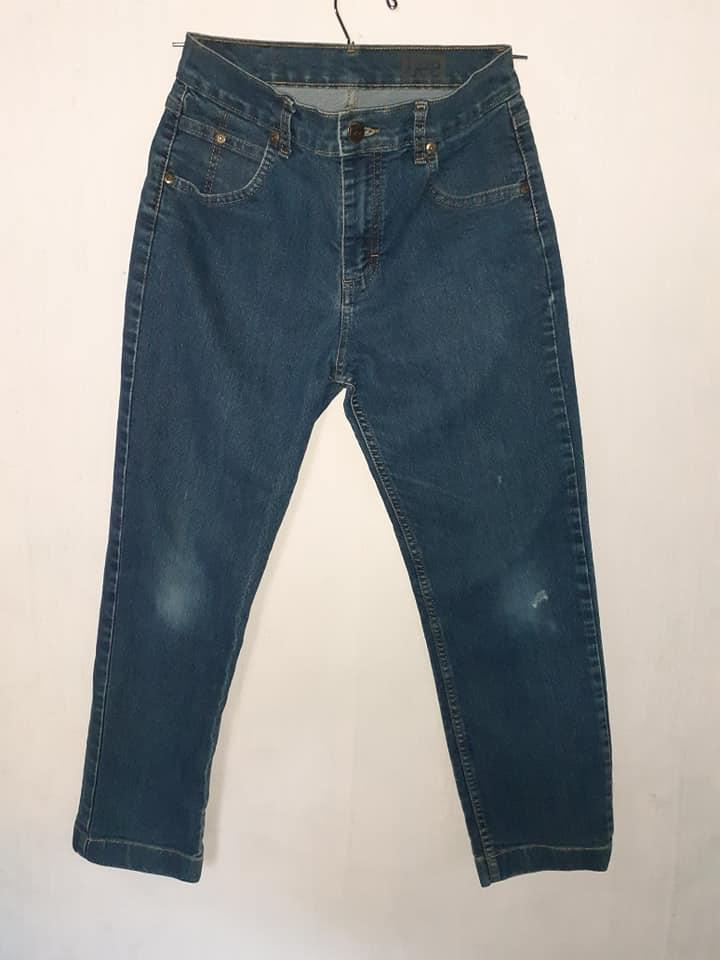Jeans: (65, 22, 625, 901)
